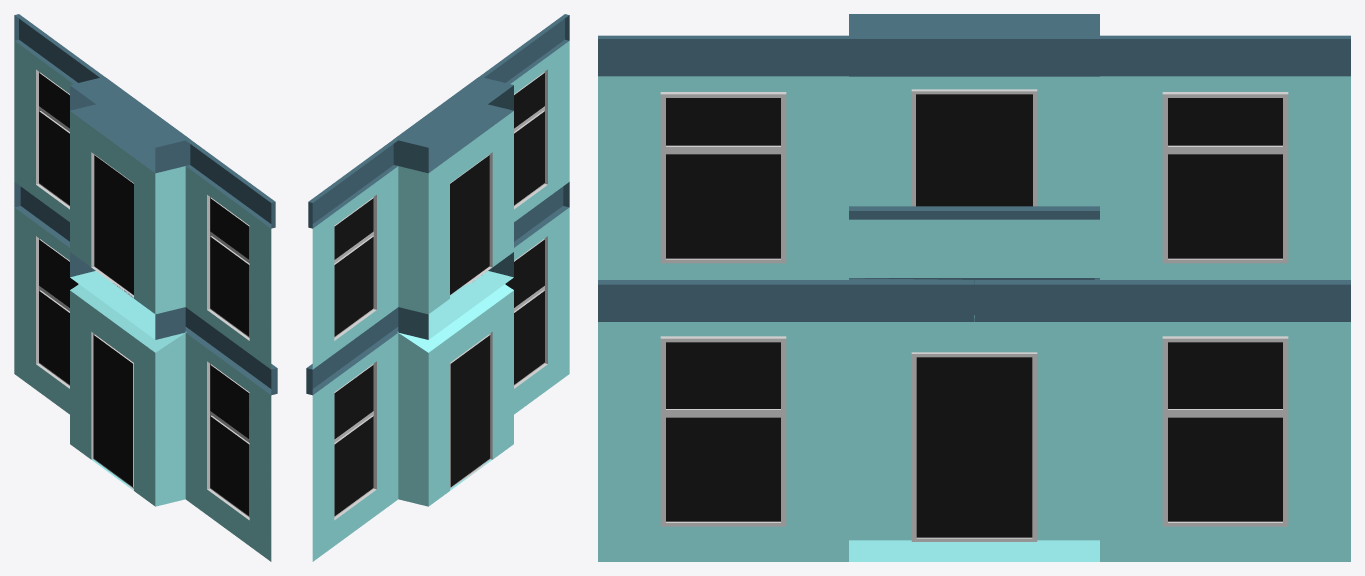
File: House4.fbx
The picture shows the model from 3 angles, left to right: view 1: azimuth 30°, elevation 25°; view 2: azimuth 150°, elevation 25°; view 3: azimuth 270°, elevation 25°; orthographic projection. The views are drawn at different scales.
Visible parts, largest first — view 1: Plane; view 2: Plane; view 3: Plane.
Part boxes in pixels (bbox=[...]): Plane: bbox=[14, 14, 277, 561]; Plane: bbox=[306, 14, 569, 561]; Plane: bbox=[598, 14, 1350, 561].
Bounding box in the file's own units: 115 × 1080 × 1400.
